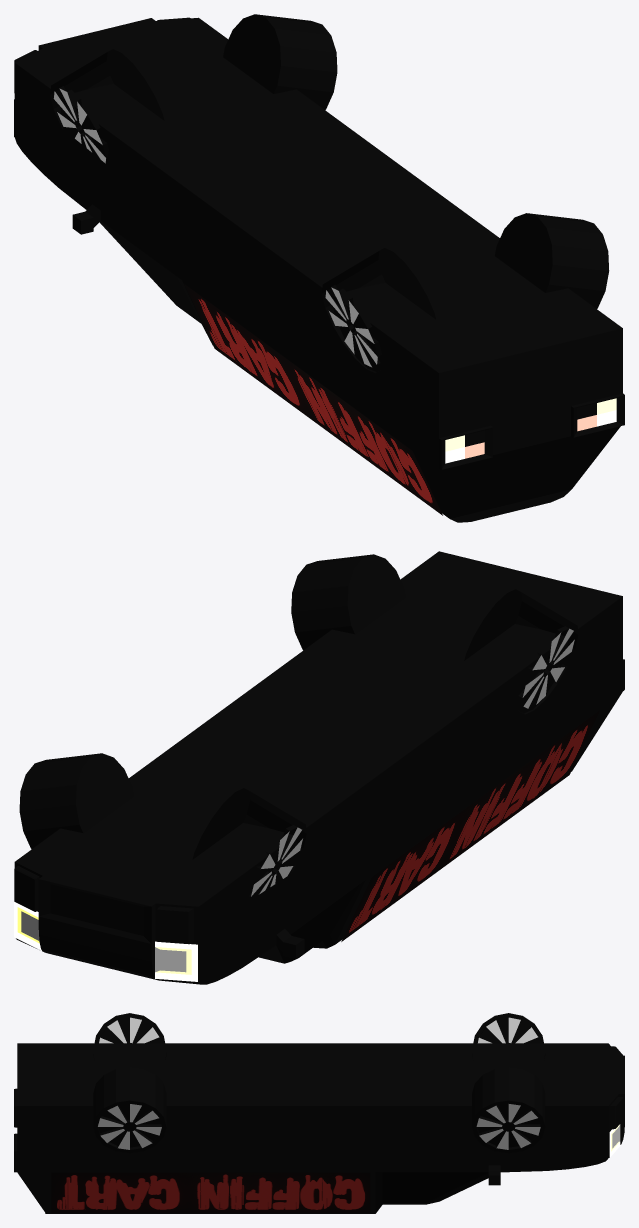
Rendered from Coffin Cart knocked over.glb.
3 renders of one model, top to bottom at view 1: azimuth 30°, elevation 25°; view 2: azimuth 150°, elevation 25°; view 3: azimuth 270°, elevation 25°, orthographic. The views are drawn at different scales.
Parts seen in each view (by area): view 1: Cube, Wheel.001, Wheel, Wheel.003, Wheel.002; view 2: Cube, Wheel, Wheel.001, Wheel.003, Wheel.002; view 3: Cube, Wheel.001, Wheel, Wheel.003, Wheel.002.
Part boxes in pixels (x1=…): Cube: x1=14, y1=17, x2=624, y2=522; Wheel.001: x1=223, y1=14, x2=337, y2=110; Wheel: x1=495, y1=213, x2=609, y2=308; Wheel.003: x1=322, y1=248, x2=435, y2=372; Wheel.002: x1=50, y1=49, x2=164, y2=163; Cube: x1=14, y1=551, x2=624, y2=984; Wheel: x1=291, y1=554, x2=405, y2=650; Wheel.001: x1=19, y1=753, x2=133, y2=849; Wheel.003: x1=464, y1=589, x2=578, y2=714; Wheel.002: x1=192, y1=788, x2=306, y2=899; Cube: x1=14, y1=1043, x2=624, y2=1213; Wheel.001: x1=472, y1=1067, x2=545, y2=1153; Wheel: x1=93, y1=1067, x2=166, y2=1153; Wheel.003: x1=93, y1=1013, x2=166, y2=1059; Wheel.002: x1=472, y1=1013, x2=545, y2=1058.
Bounding box in the file's own units: 5.65 × 4.82 × 16.69.
8 materials, 1 textured.
